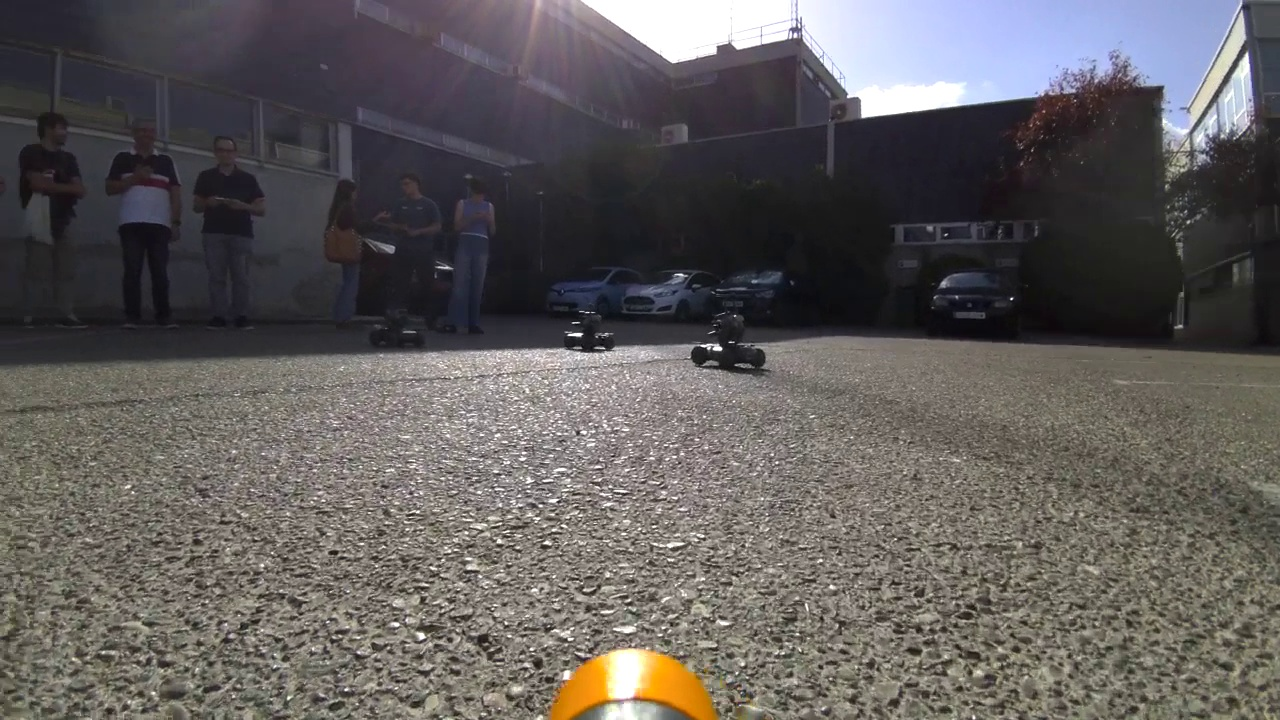robot: (686, 312, 770, 371), (355, 304, 436, 351), (560, 305, 620, 360)
